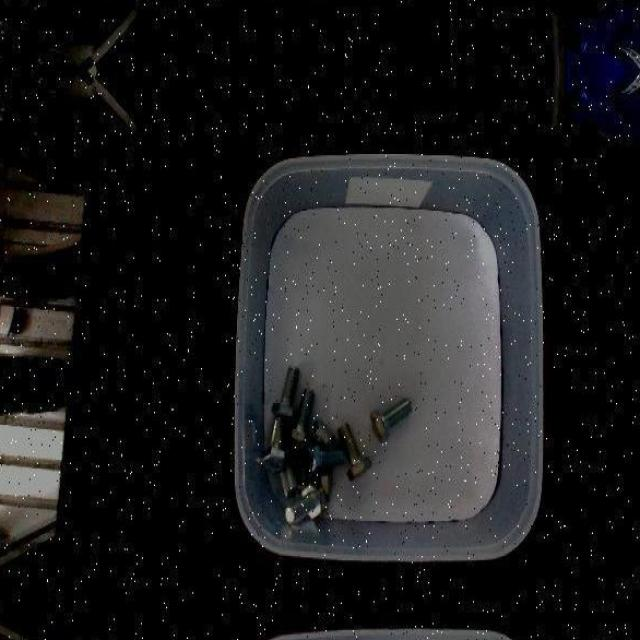screw: (369, 395, 412, 442), (338, 422, 372, 480), (284, 480, 325, 522), (304, 438, 346, 476), (271, 365, 299, 419), (261, 416, 287, 471), (288, 388, 314, 442)
